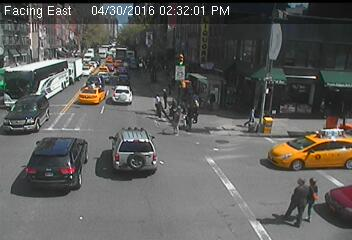neg: (16, 134, 45, 172), (53, 118, 80, 154), (174, 53, 200, 87), (275, 94, 300, 127), (68, 191, 91, 222), (27, 47, 50, 77), (224, 152, 246, 181), (109, 140, 130, 167), (308, 134, 328, 161), (325, 81, 344, 105), (86, 80, 104, 105), (118, 55, 136, 79), (228, 86, 245, 110), (245, 41, 261, 63), (168, 205, 183, 225), (273, 64, 284, 80)
pos: (281, 176, 314, 220), (305, 177, 327, 207), (165, 105, 187, 134), (147, 90, 167, 118), (246, 102, 264, 125), (190, 97, 205, 117)
